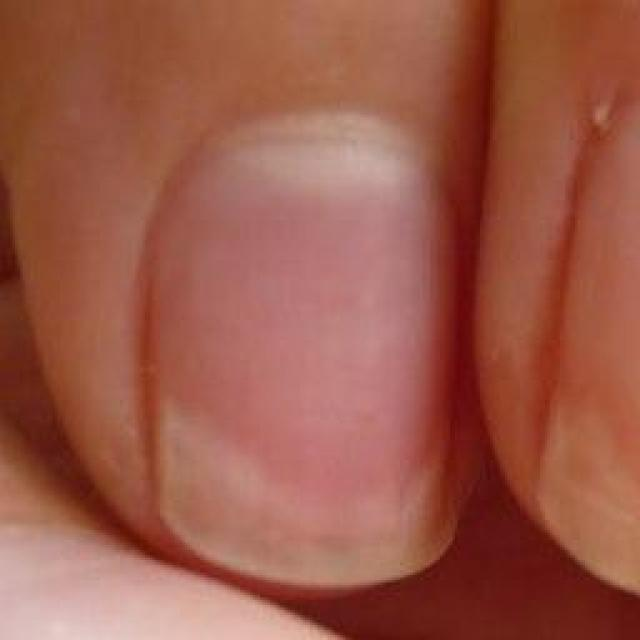Nail: (143, 143, 465, 591)
